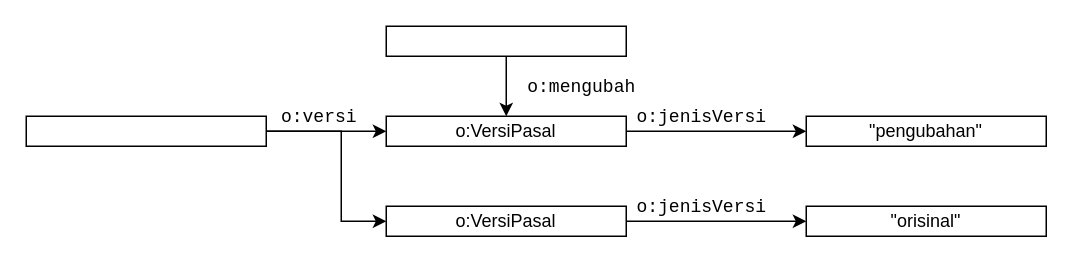
Image size: 1073x263. Some labels were removed from this diagram. The centre of each missing label's shape, as x and y in pixels:
"o:huruf" goes at (x=505, y=40).
"o:Pasal" goes at (x=145, y=130).
